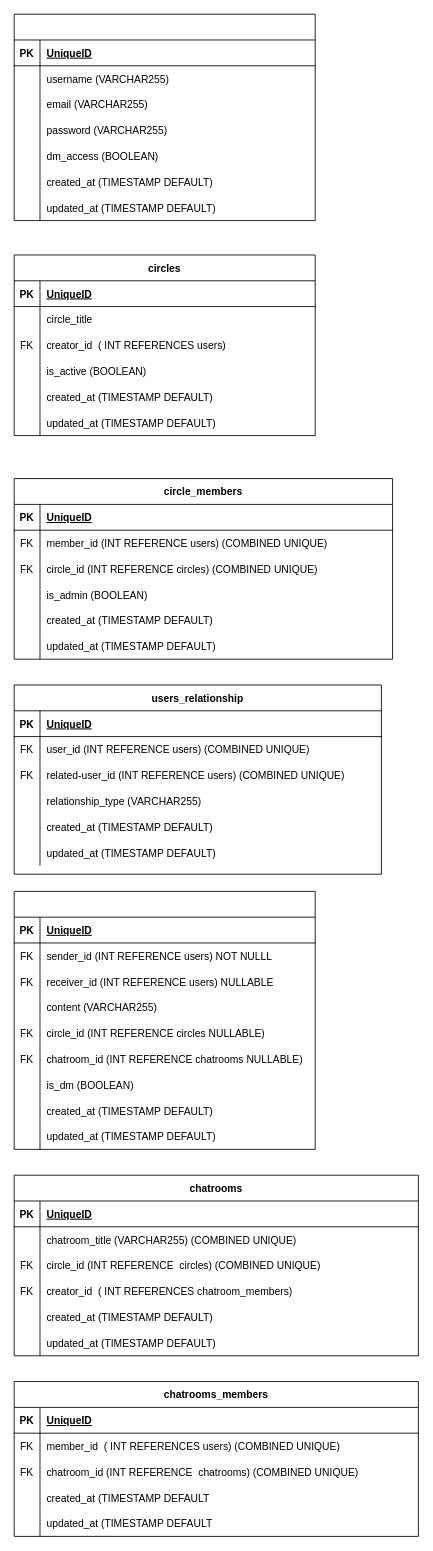
Image size: 433x1551. Some labels were removed from this diagram. The box of each missing label's shape, as (x1, y1, x2, y2) in pixels:
messages: (13, 891, 315, 1149)
users: (13, 13, 315, 221)
